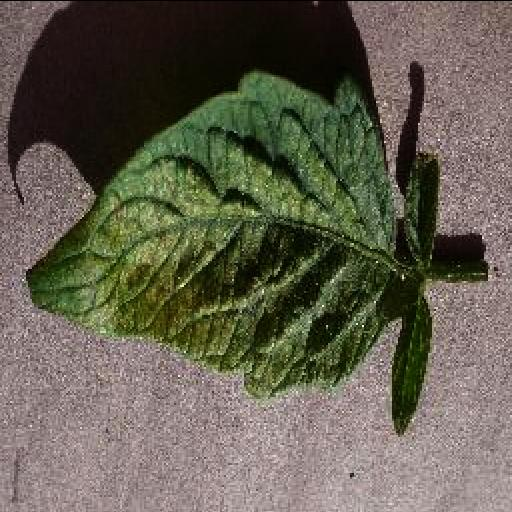disease_tomato: (20, 70, 394, 398)
